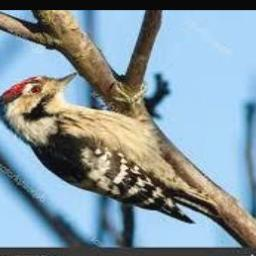Woodpecker: (0, 72, 220, 224)
